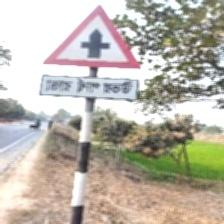Crossroad: (41, 4, 141, 102)
